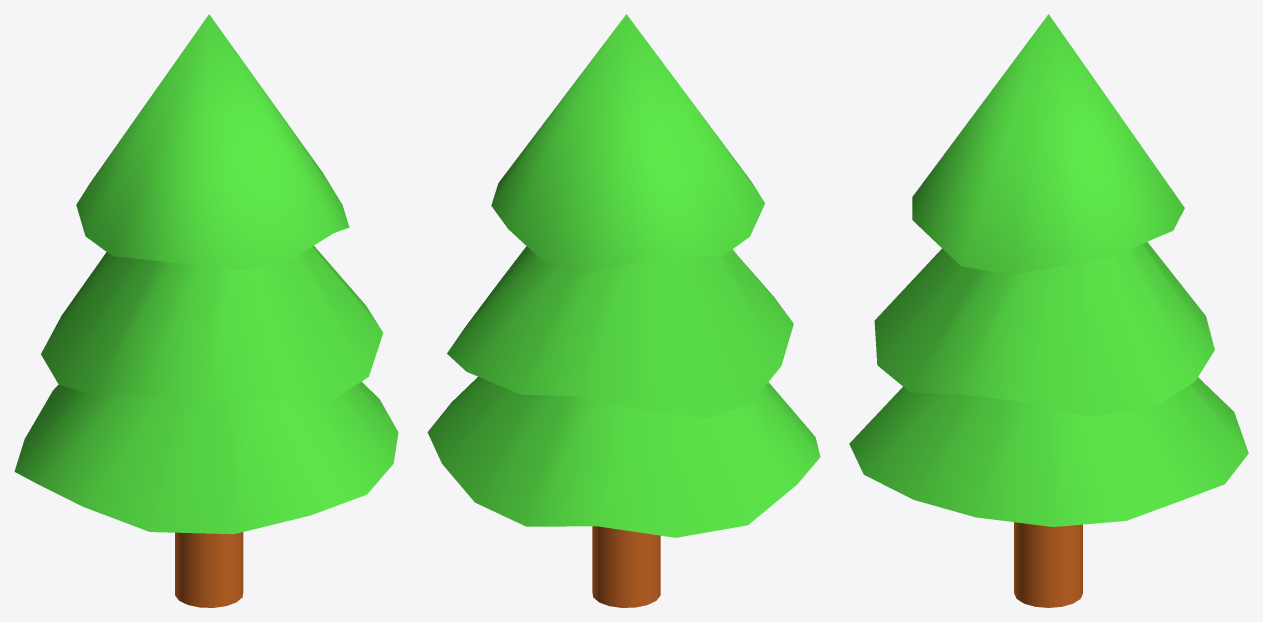
Rendered from Tree.fbx.
The picture shows the model from 3 angles, left to right: view 1: azimuth 30°, elevation 25°; view 2: azimuth 150°, elevation 25°; view 3: azimuth 270°, elevation 25°; orthographic projection.
Visible parts, largest first — view 1: Cylinder; view 2: Cylinder; view 3: Cylinder.
Boxes of the visible parts, x1,y1,x2,y2 form: Cylinder: (14, 14, 398, 607); Cylinder: (427, 14, 820, 607); Cylinder: (849, 14, 1248, 607).
Bounding box in the file's own units: 122 × 196 × 123.
